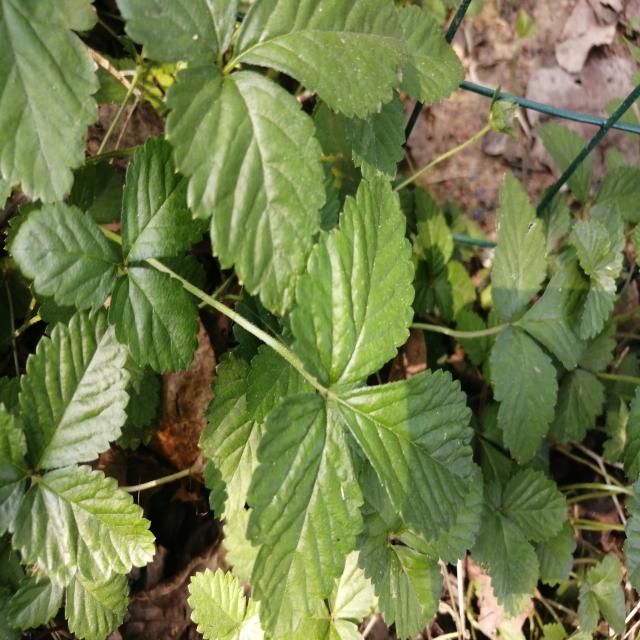Mock_strawberry: (25, 136, 227, 356)
